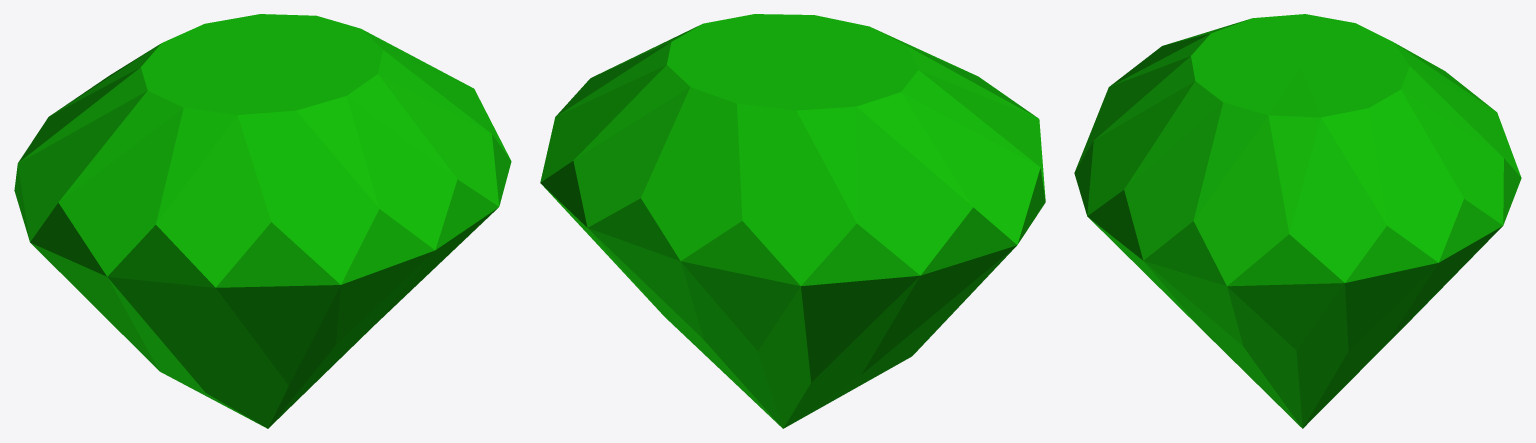
The model's file is Diamond.fbx.
The picture shows the model from 3 angles, left to right: view 1: azimuth 30°, elevation 25°; view 2: azimuth 150°, elevation 25°; view 3: azimuth 270°, elevation 25°; orthographic projection. The views are drawn at different scales.
Parts seen in each view (by area): view 1: Gem; view 2: Gem; view 3: Gem.
Part boxes in pixels (x1,y1,x2,y2): Gem: [14, 14, 511, 428]; Gem: [540, 14, 1045, 428]; Gem: [1074, 14, 1521, 428].
Size of the model in its own units: 130 by 103 by 116.
